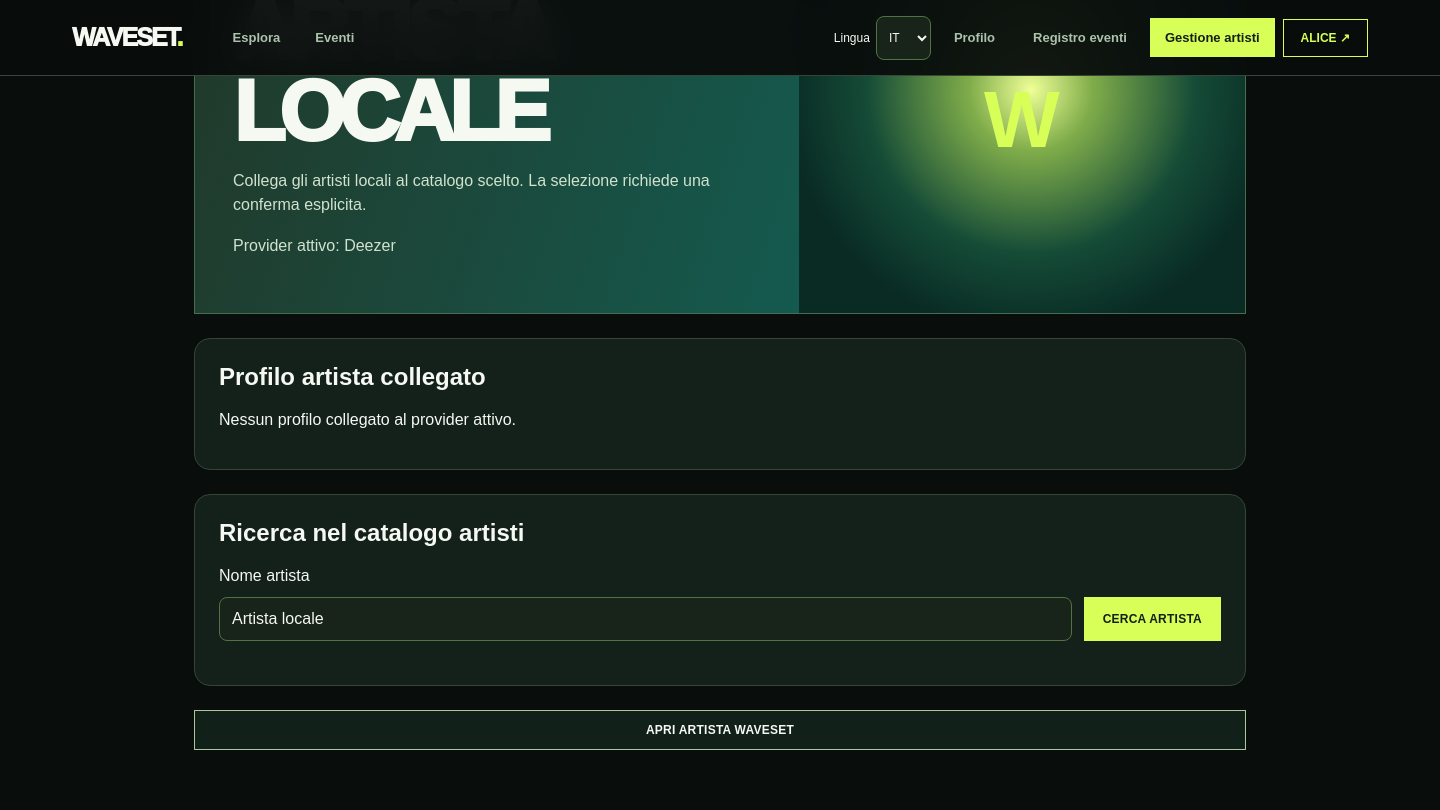
Test: ricerca: configurazione assente ed errore Deezer tradotti, retry possibile
(page scrolled)
Click the button "Cerca artista": (1152, 619) [1084,597,1221,641]
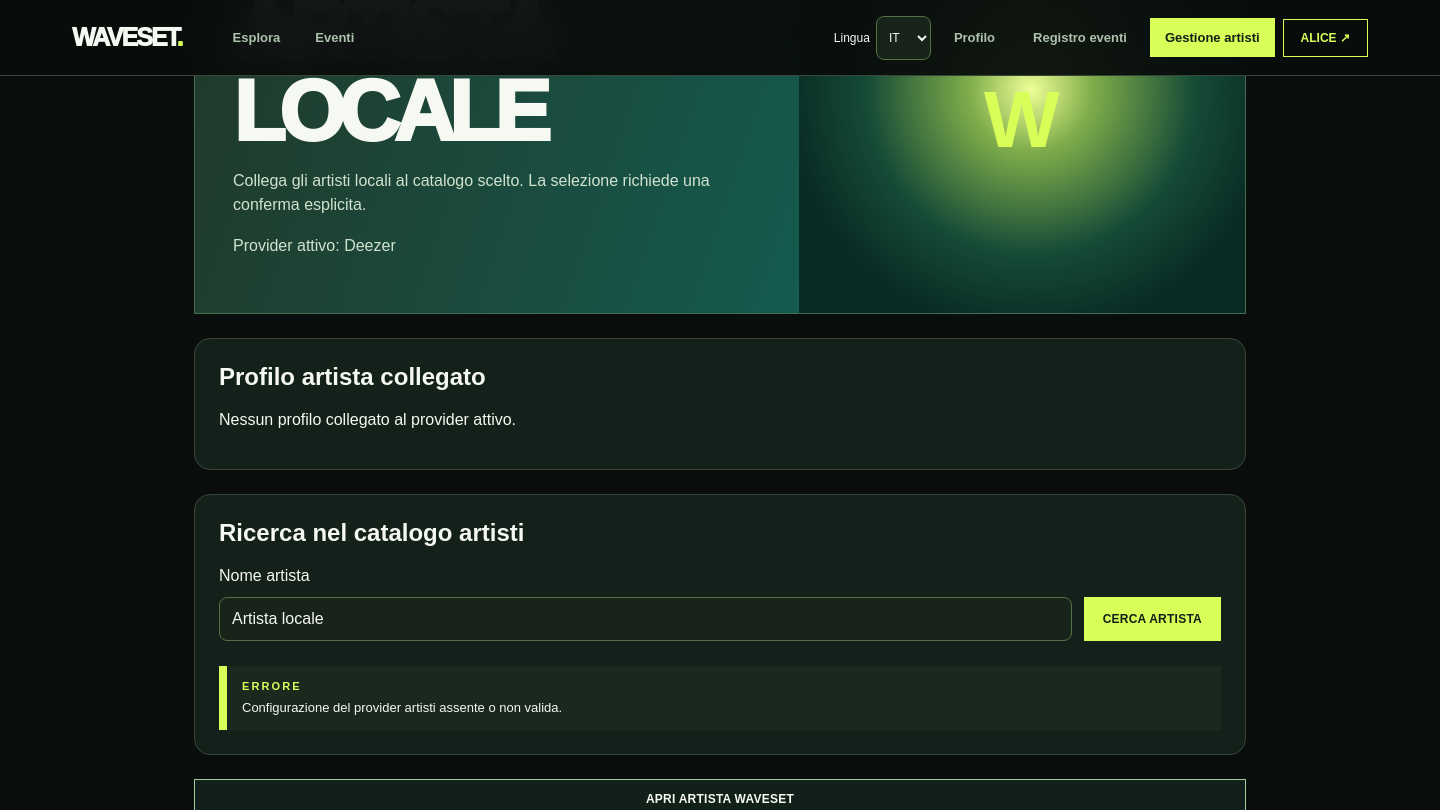
Expected: the message shows "Configurazione del provider artisti assente o non valida.", [242,700,562,715]
Click the button "Cerca artista": (1152, 619) [1084,597,1221,641]
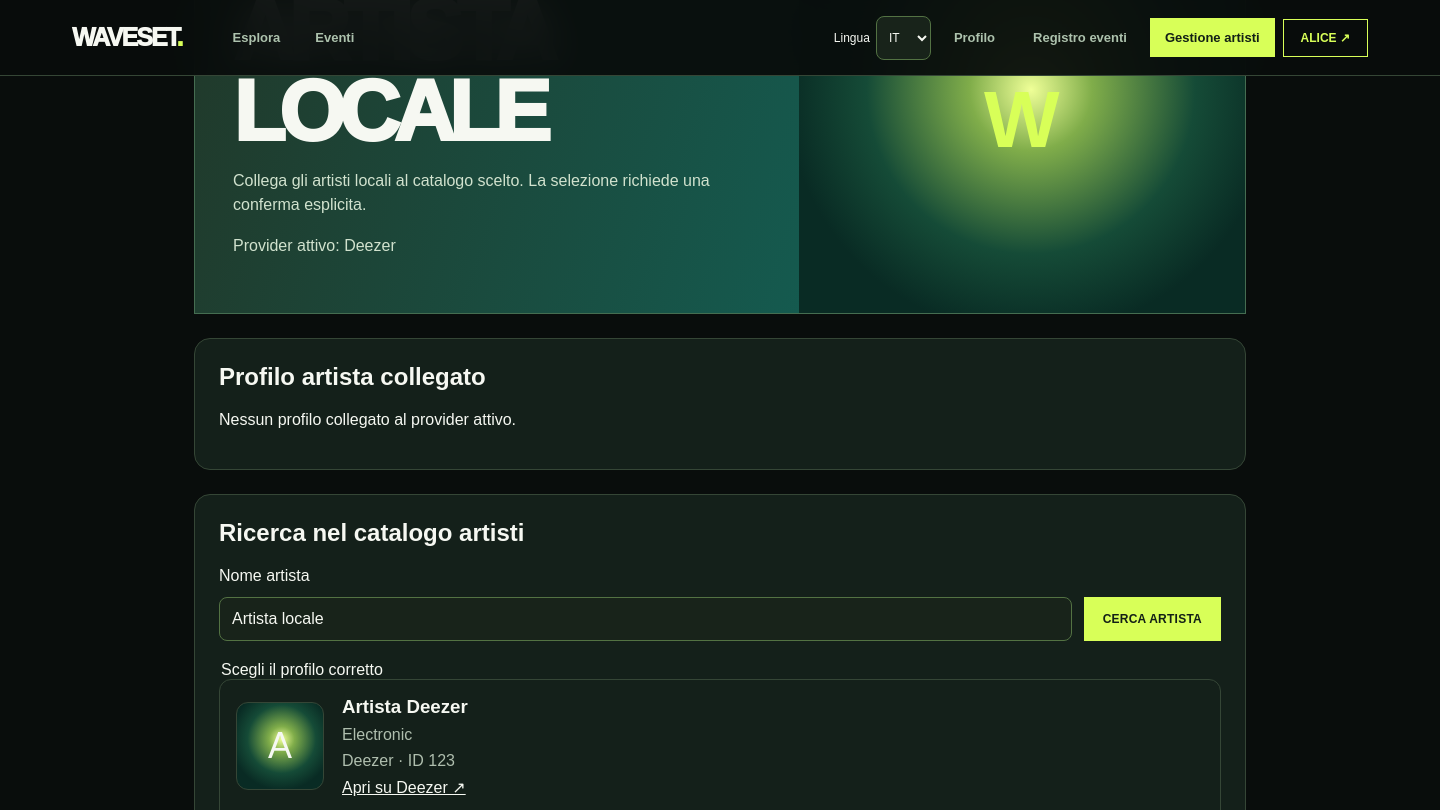
Expected: the text named "Foto artista non disponibile" is shown, [236,702,324,790]
